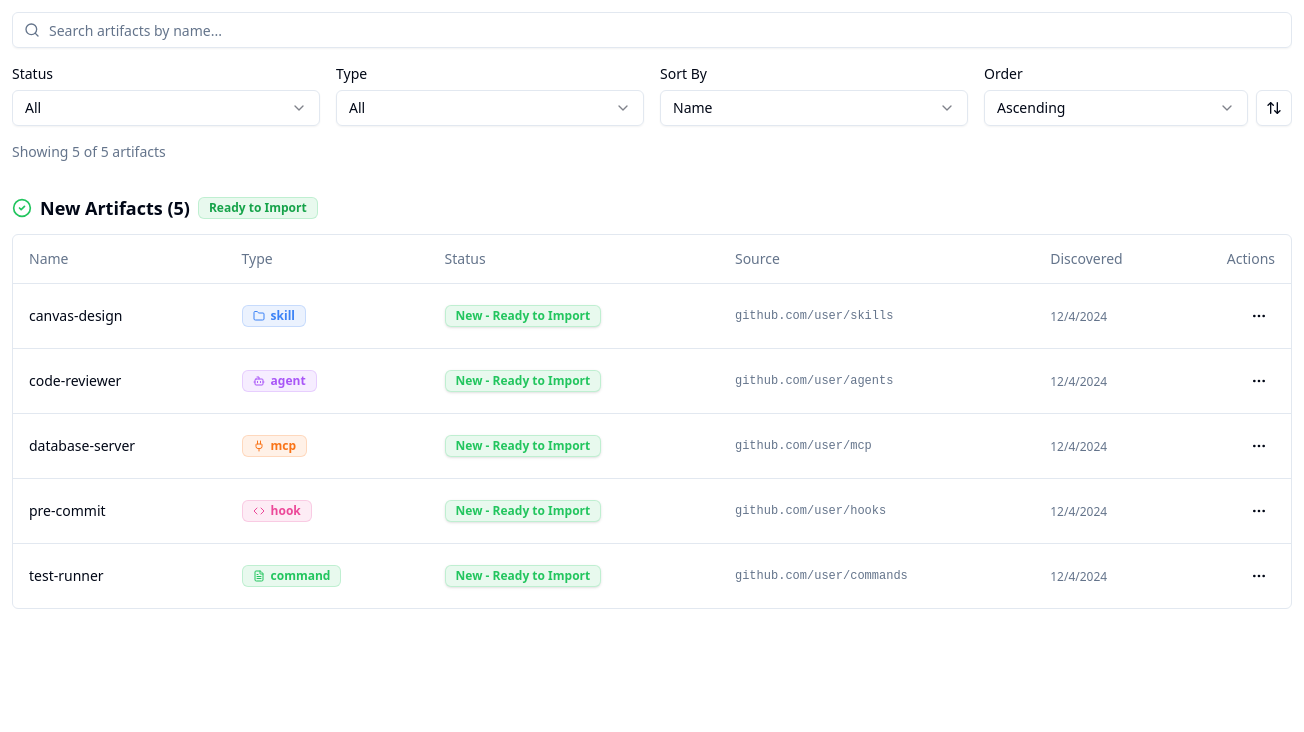
Test: DiscoveryTab › Filter Tests › filters by artifact name (search)
Type "canvas" into the field with placeholder "Search artifacts by name..." at (652,30), box [12,12,1292,48]
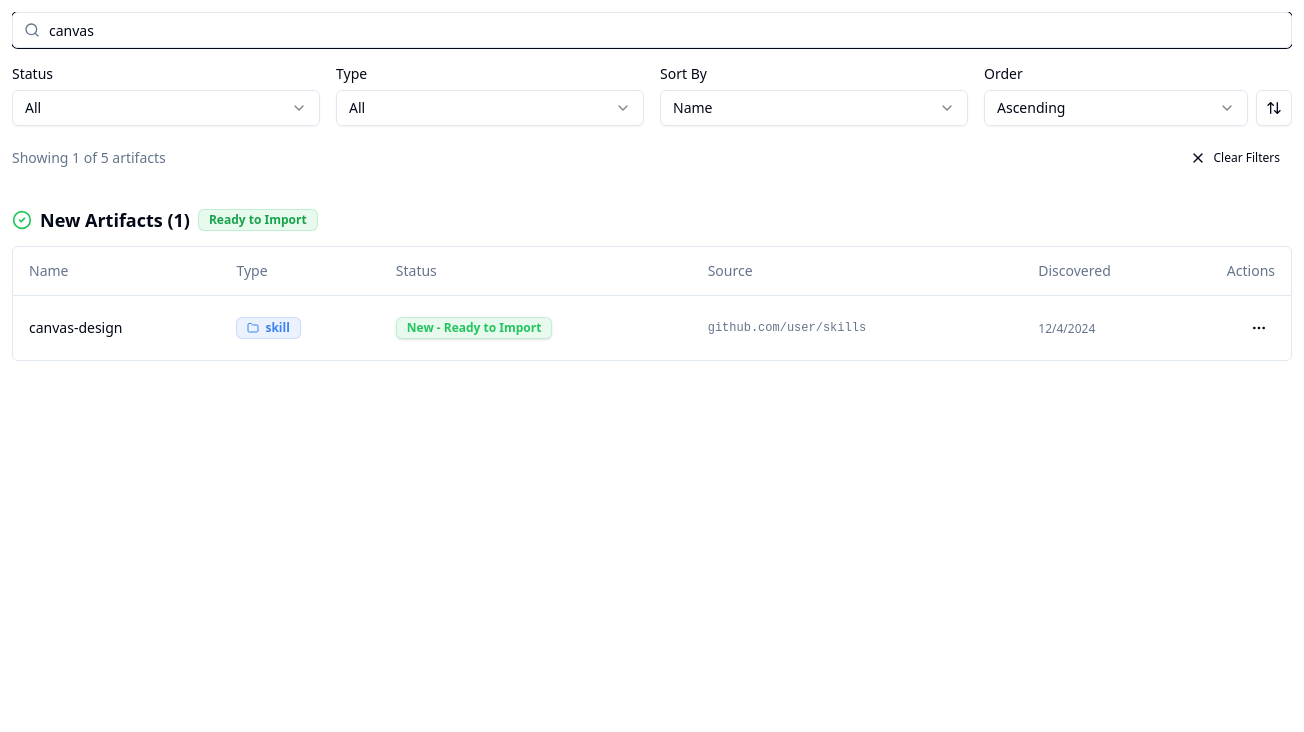
expect the text "canvas-design" is shown: met, box [13,295,220,360]
expect the button "test-runner" is gone: met
